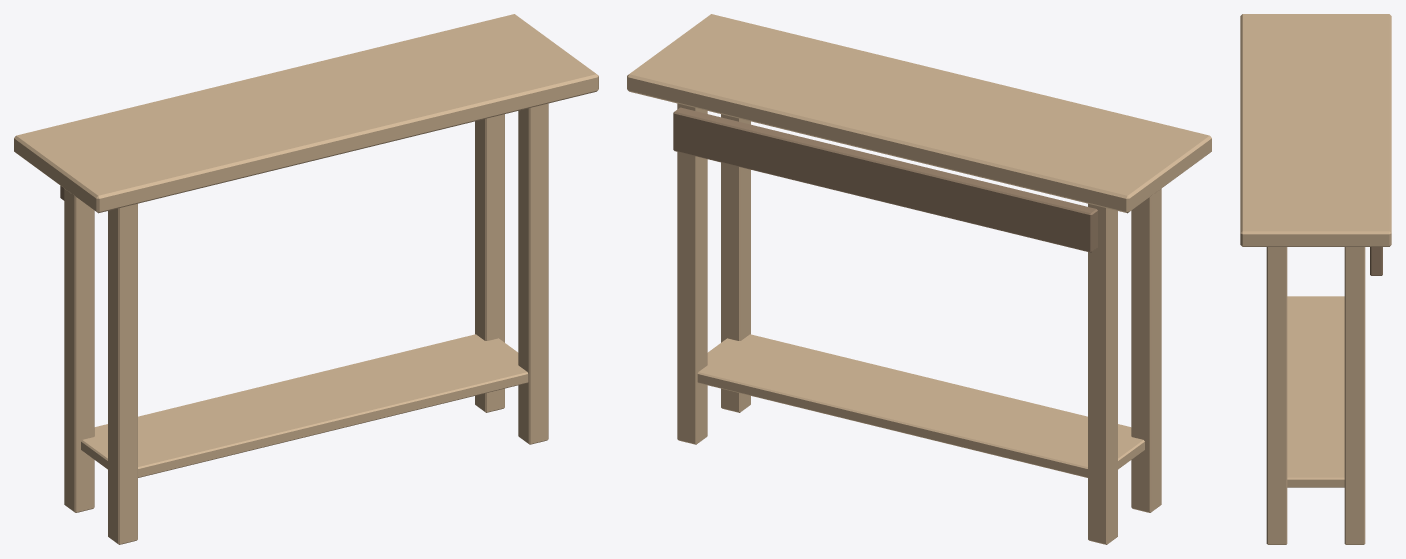
File: bedroom-and-living-room-furniture-console-table-08a31524.glb
3 views of the same model, side by side, from view 1: azimuth 30°, elevation 25°; view 2: azimuth 150°, elevation 25°; view 3: azimuth 270°, elevation 25° (orthographic). The views are drawn at different scales.
Visible parts, largest first — view 1: console-table; view 2: console-table; view 3: console-table.
Part boxes in pixels (x1,y1,x2,y2): console-table: [14, 14, 598, 544]; console-table: [627, 14, 1211, 544]; console-table: [1240, 14, 1391, 544].
Size of the model in its own units: 1.2 by 0.84 by 0.35.
